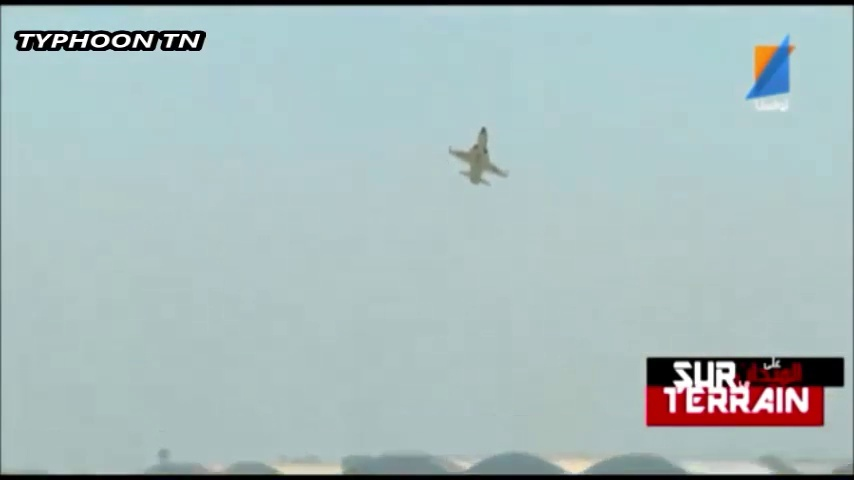Airplane: (444, 123, 513, 190)
